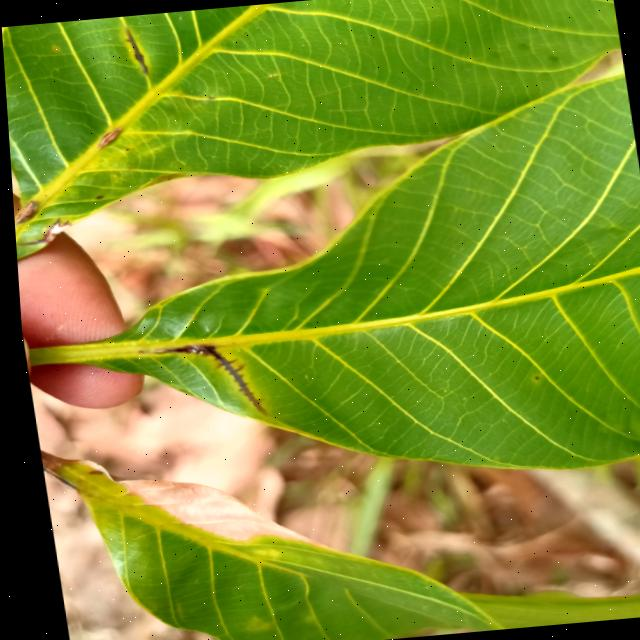Corynespora: (149, 340, 263, 424), (121, 24, 150, 78)
